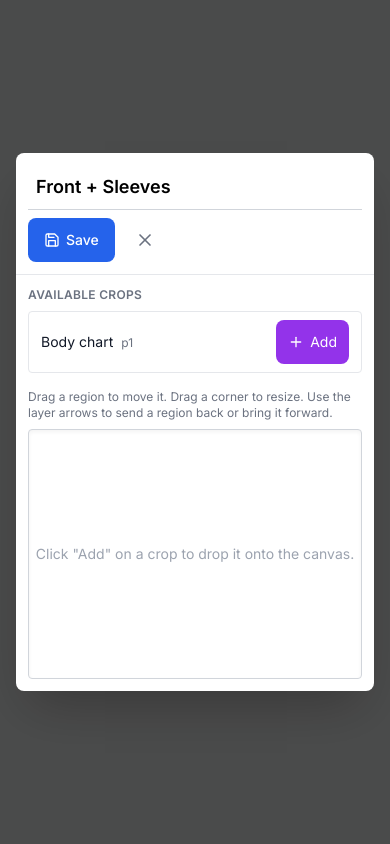
Test: JoinLayoutEditor — visual canvas › Add drops the crop onto the canvas as a new region card
What coordinates should you click on to do the following:
click the button with aria-label "Add Body chart"
I would click on:
 (313, 342)
Its box is [276,320,349,364].
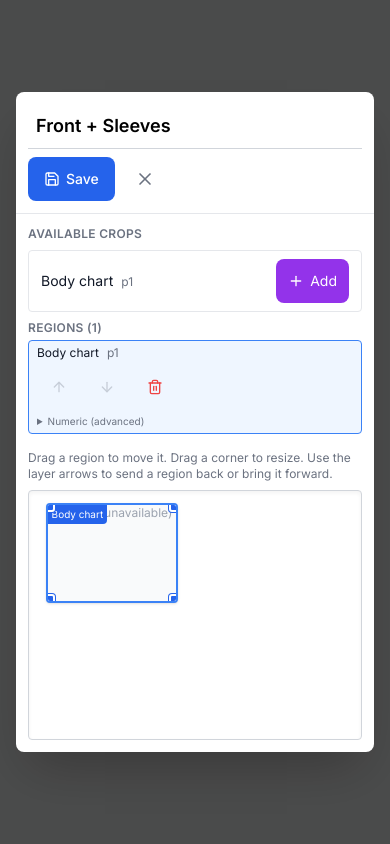
Now the heading "Regions (1)" is shown, box [28,320,102,335]
